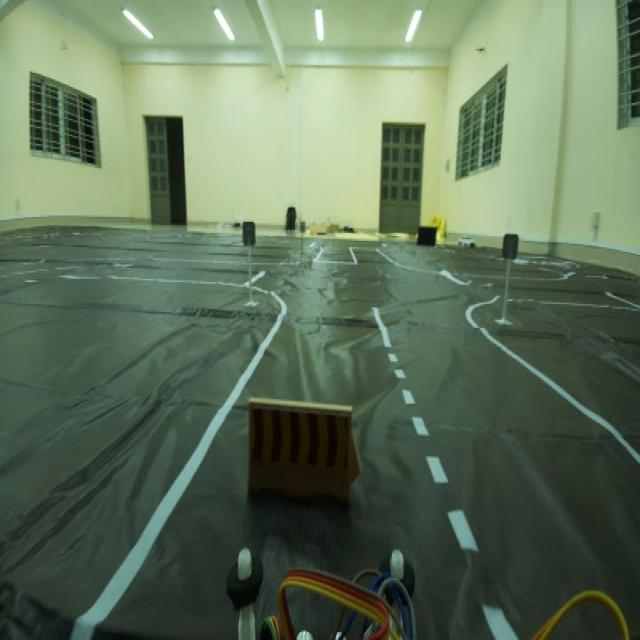roadblock: (245, 389, 363, 512)
